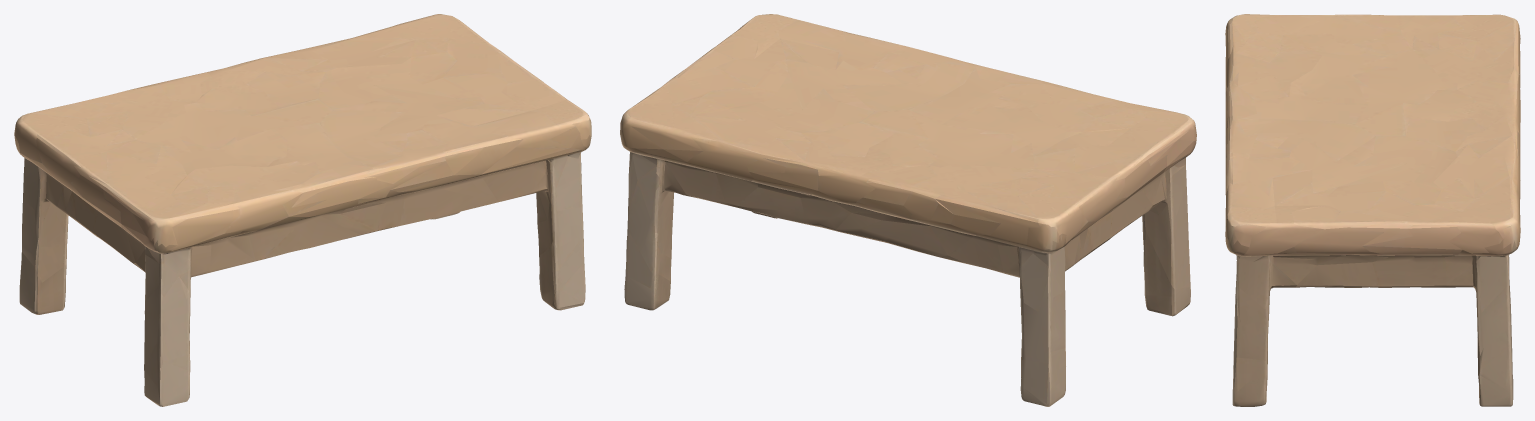
The model's file is low_table.glb.
The picture shows the model from 3 angles, left to right: view 1: azimuth 30°, elevation 25°; view 2: azimuth 150°, elevation 25°; view 3: azimuth 270°, elevation 25°; orthographic projection.
Bounding box in the file's own units: 1.9 × 0.7768 × 1.11.
1 material, 1 textured.
